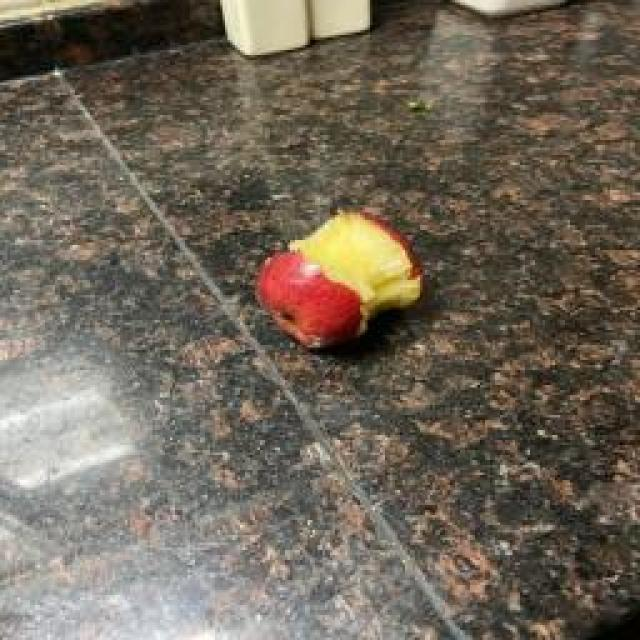Apple: (256, 211, 424, 348)
